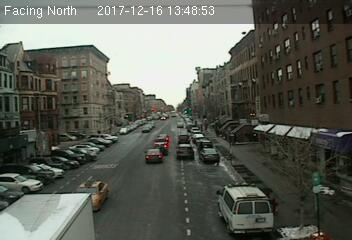car: (75, 176, 110, 213), (199, 147, 221, 164), (176, 143, 195, 160), (144, 148, 163, 164), (178, 132, 191, 145)
police: (215, 180, 275, 236)
